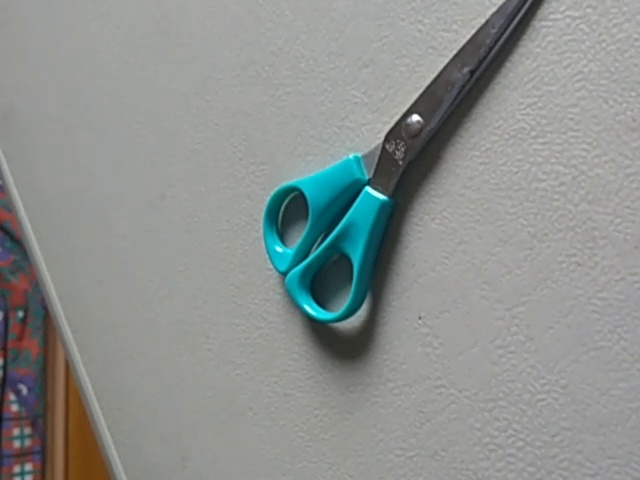Sizer: (245, 3, 565, 336)
